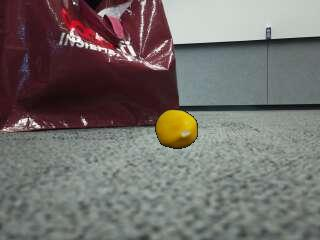lemon: (157, 111, 198, 149)
